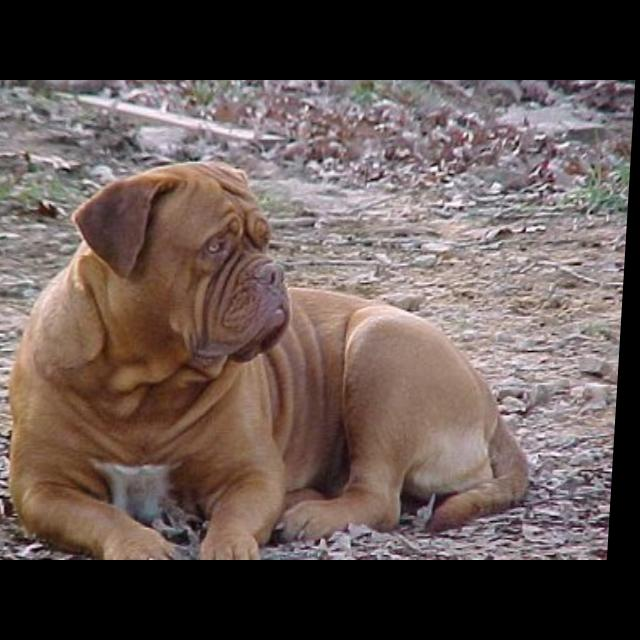dogue_de_bordeaux: (4, 160, 552, 561)
